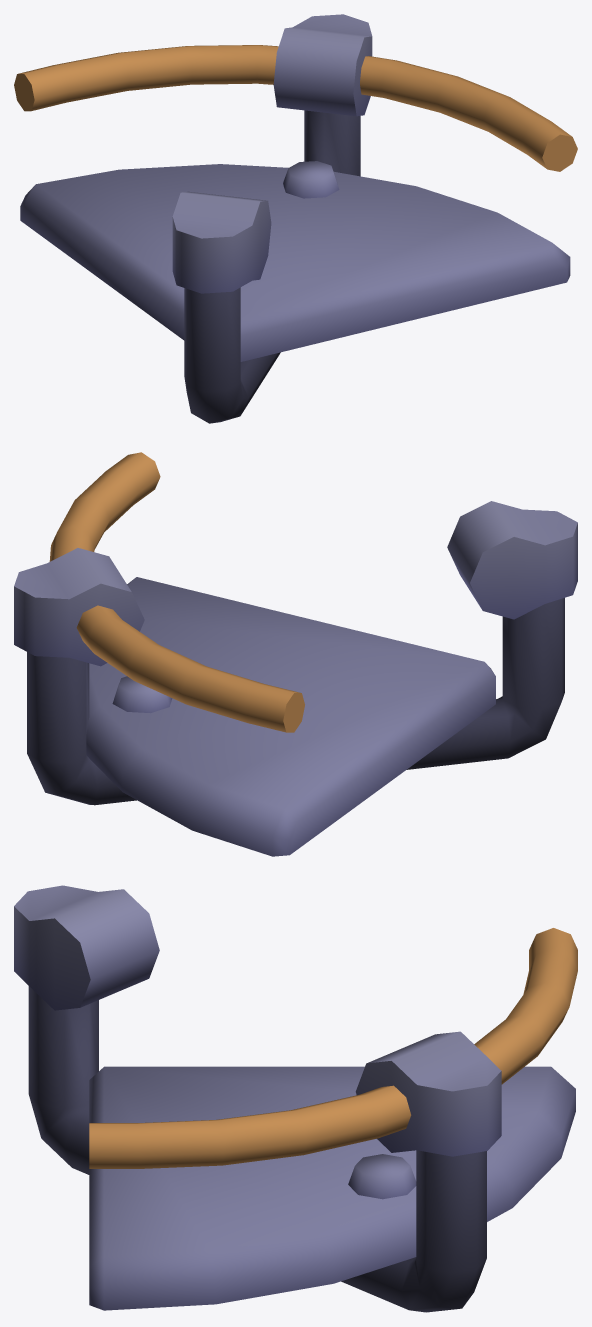
File: catwalk-corner.glb
3 views of the same model, one above another, from view 1: azimuth 30°, elevation 25°; view 2: azimuth 150°, elevation 25°; view 3: azimuth 270°, elevation 25° (orthographic). The views are drawn at different scales.
Visible parts, largest first — view 1: catwalk-corner; view 2: catwalk-corner; view 3: catwalk-corner.
Boxes of the visible parts, x1=… form: catwalk-corner: x1=14, y1=14, x2=577, y2=423; catwalk-corner: x1=14, y1=452, x2=577, y2=856; catwalk-corner: x1=14, y1=885, x2=577, y2=1312.
Size of the model in its own units: 1.15 by 0.6014 by 1.15.
